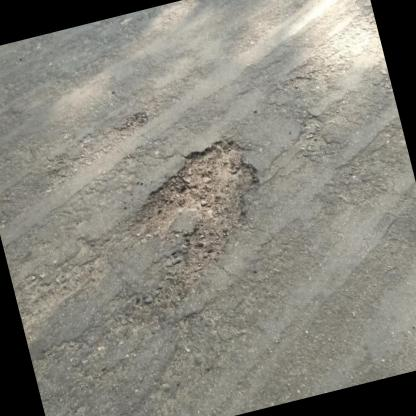pothole: (115, 128, 284, 299)
